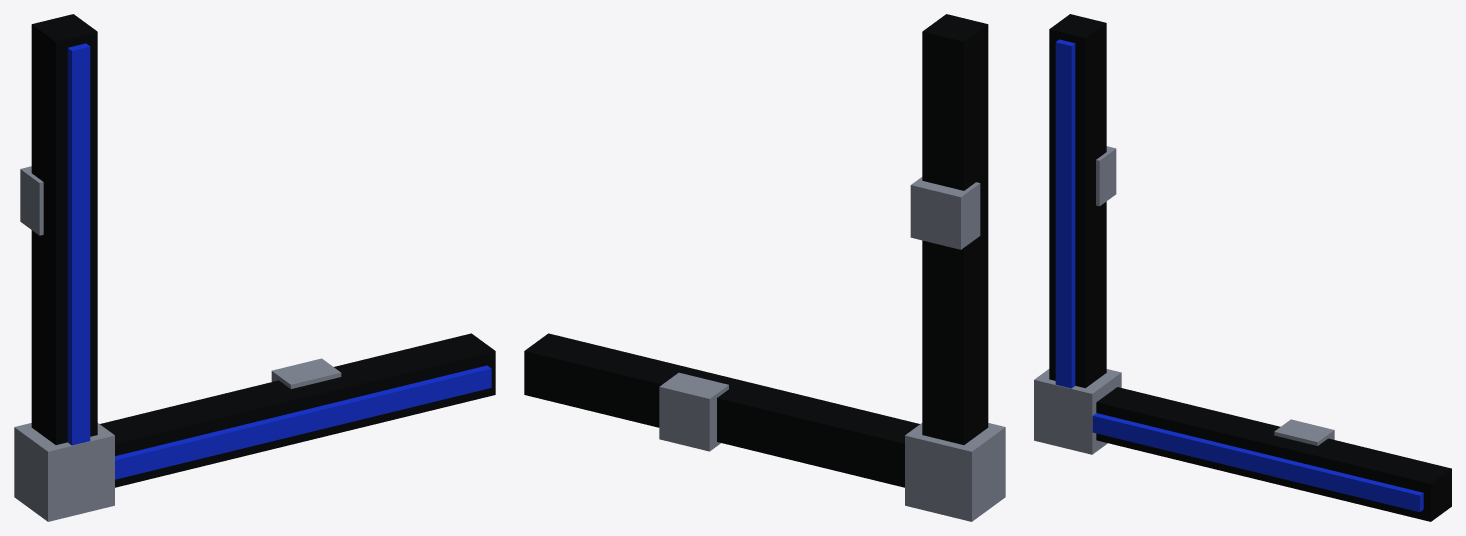
File: SM_Cable_Corner_Blue.glb
3 renders of one model, left to right at view 1: azimuth 30°, elevation 25°; view 2: azimuth 150°, elevation 25°; view 3: azimuth 330°, elevation 25°, orthographic. The views are drawn at different scales.
Parts seen in each view (by area): view 1: SM_Cable_Corner_Blue; view 2: SM_Cable_Corner_Blue; view 3: SM_Cable_Corner_Blue.
Part boxes in pixels (bbox=[...]): SM_Cable_Corner_Blue: bbox=[14, 14, 495, 521]; SM_Cable_Corner_Blue: bbox=[524, 14, 1005, 521]; SM_Cable_Corner_Blue: bbox=[1034, 14, 1451, 521].
Bounding box in the file's own units: 0.54 × 0.54 × 0.075.
